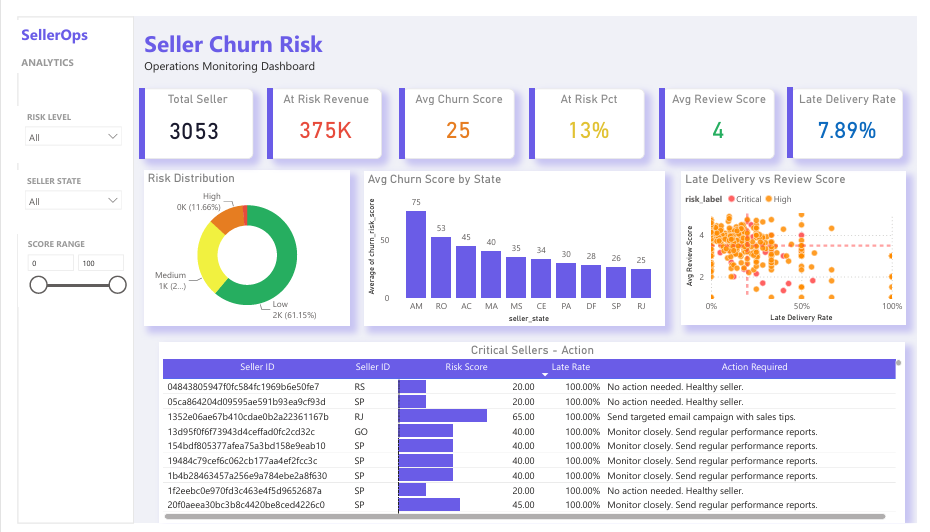

The dashboard page shown, as its layout file describes it:
{"tool":"powerbi","page":{"name":"Page 1","canvas":[1280,720],"ordinal":0},"visuals":[{"type":"shape","box":[0,0,165,720],"z":0,"group":"g1"},{"type":"donutChart","title":"Risk Distribution","fields":{"Category":["gold seller_churn.risk_label"],"Y":["gold seller_churn.TotalSeller"]},"box":[180.2,219.2,293.2,220.6],"z":0},{"type":"scatterChart","title":"Late Delivery vs Review Score","fields":{"X":["Avg(gold seller_churn.late_delivery_rate)"],"Series":["gold seller_churn.risk_label"],"Y":["Avg(gold seller_churn.avg_review_score)"],"Category":["gold seller_churn.seller_id"]},"box":[945,220,318.8,218.8],"z":1000},{"type":"tableEx","title":"Critical Sellers - Action ","fields":{"Values":["gold seller_churn.seller_id","gold seller_churn.seller_state","Avg(gold seller_churn.churn_risk_score)","Avg(gold seller_churn.late_delivery_rate)","gold seller_churn.recommendation"]},"box":[201.7,463.3,1061.7,256.7],"z":2000},{"type":"textbox","box":[175,10,330,80],"z":3000},{"type":"advanceCardE03760C5AB684758B56AA29F9E6C257B","title":"Late Delivery Rate","fields":{"mainMeasure":["Avg(gold seller_churn.late_delivery_rate)"]},"box":[1100,101.7,160,100],"z":4000},{"type":"slicer","fields":{"Values":["gold seller_churn.risk_label"]},"box":[0,128,158,80],"z":4000,"group":"g1"},{"type":"advanceCardE03760C5AB684758B56AA29F9E6C257B","title":"Avg Churn Score","fields":{"mainMeasure":["gold seller_churn.Avg Churn Score"]},"box":[546.7,101.7,160,100],"z":5000},{"type":"slicer","fields":{"Values":["gold seller_churn.seller_state"]},"box":[0,218.6,157.9,91.4],"z":5000,"group":"g1"},{"type":"advanceCardE03760C5AB684758B56AA29F9E6C257B","title":"At Risk Pct","fields":{"mainMeasure":["gold seller_churn.AtRiskPct"]},"box":[731.7,101.7,160,100],"z":6000},{"type":"slicer","fields":{"Values":["gold seller_churn.churn_risk_score"]},"box":[1.2,310,161.2,102.5],"z":6000,"group":"g1"},{"type":"textbox","box":[0,50,100,29],"z":7000,"group":"g1"},{"type":"advanceCardE03760C5AB684758B56AA29F9E6C257B","title":"At Risk Revenue","fields":{"mainMeasure":["gold seller_churn.AtRiskRevenue"]},"box":[358.3,101.7,160,100],"z":7000},{"type":"textbox","box":[0,5,120,45],"z":8000,"group":"g1"},{"type":"advanceCardE03760C5AB684758B56AA29F9E6C257B","title":"Avg Review Score","fields":{"mainMeasure":["Avg(gold seller_churn.avg_review_score)"]},"box":[916.7,101.7,160,100],"z":8000},{"type":"advanceCardE03760C5AB684758B56AA29F9E6C257B","title":"Total Seller","fields":{"mainMeasure":["gold seller_churn.TotalSeller"]},"box":[175,101.7,160,100],"z":9000},{"type":"clusteredColumnChart","title":"Avg Churn Score by State","fields":{"Category":["gold seller_churn.seller_state"],"Y":["Avg(gold seller_churn.churn_risk_score)"]},"box":[492.5,220,428.8,220],"z":10000},{"type":"shape","box":[172.7,101.8,8.2,100],"z":11000},{"type":"shape","box":[354.5,101.8,8.2,100],"z":12000},{"type":"shape","box":[542.7,101.8,8.2,100],"z":13000},{"type":"shape","box":[728.2,101.8,8.2,100],"z":14000},{"type":"shape","box":[912.7,101.8,8.2,100],"z":15000},{"type":"shape","box":[1095.7,101.4,8.6,100],"z":16000},{"type":"group","id":"g1","title":"Group 1","box":[0,0,165,720],"z":17000}]}

Visuals, with their boxes on the page's 1280x720 design canvas (x1, y1, x2, y2). These are canvas units, not pixel positions in the 930x532 screenshot, which may show the page scaled, cropped or inside an application window:
shape: left=0, top=0, right=165, bottom=720
"Risk Distribution" donutChart: left=180, top=219, right=473, bottom=440
"Late Delivery vs Review Score" scatterChart: left=945, top=220, right=1264, bottom=439
"Critical Sellers - Action " tableEx: left=202, top=463, right=1263, bottom=720
textbox: left=175, top=10, right=505, bottom=90
"Late Delivery Rate" advanceCardE03760C5AB684758B56AA29F9E6C257B: left=1100, top=102, right=1260, bottom=202
slicer - gold seller_churn.risk_label: left=0, top=128, right=158, bottom=208
"Avg Churn Score" advanceCardE03760C5AB684758B56AA29F9E6C257B: left=547, top=102, right=707, bottom=202
slicer - gold seller_churn.seller_state: left=0, top=219, right=158, bottom=310
"At Risk Pct" advanceCardE03760C5AB684758B56AA29F9E6C257B: left=732, top=102, right=892, bottom=202
slicer - gold seller_churn.churn_risk_score: left=1, top=310, right=162, bottom=412
textbox: left=0, top=50, right=100, bottom=79
"At Risk Revenue" advanceCardE03760C5AB684758B56AA29F9E6C257B: left=358, top=102, right=518, bottom=202
textbox: left=0, top=5, right=120, bottom=50
"Avg Review Score" advanceCardE03760C5AB684758B56AA29F9E6C257B: left=917, top=102, right=1077, bottom=202
"Total Seller" advanceCardE03760C5AB684758B56AA29F9E6C257B: left=175, top=102, right=335, bottom=202
"Avg Churn Score by State" clusteredColumnChart: left=492, top=220, right=921, bottom=440
shape: left=173, top=102, right=181, bottom=202
shape: left=354, top=102, right=363, bottom=202
shape: left=543, top=102, right=551, bottom=202
shape: left=728, top=102, right=736, bottom=202
shape: left=913, top=102, right=921, bottom=202
shape: left=1096, top=101, right=1104, bottom=201
"Group 1" group: left=0, top=0, right=165, bottom=720
